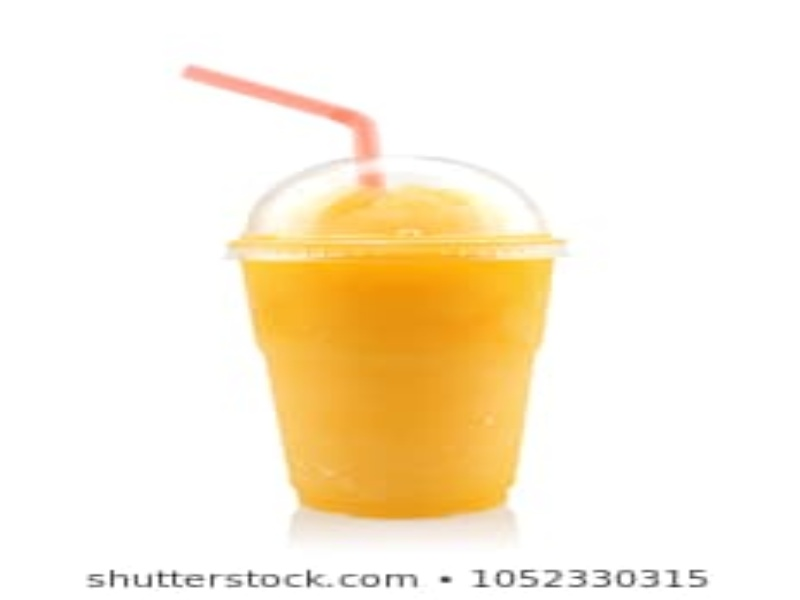plastic-cup: (220, 149, 575, 522)
straw: (170, 50, 416, 186)
